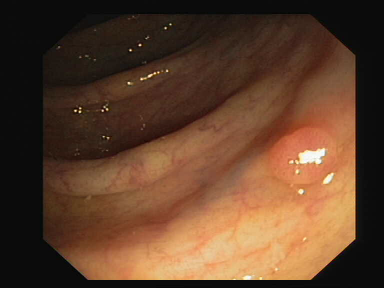polyp: (253, 98, 343, 202)
